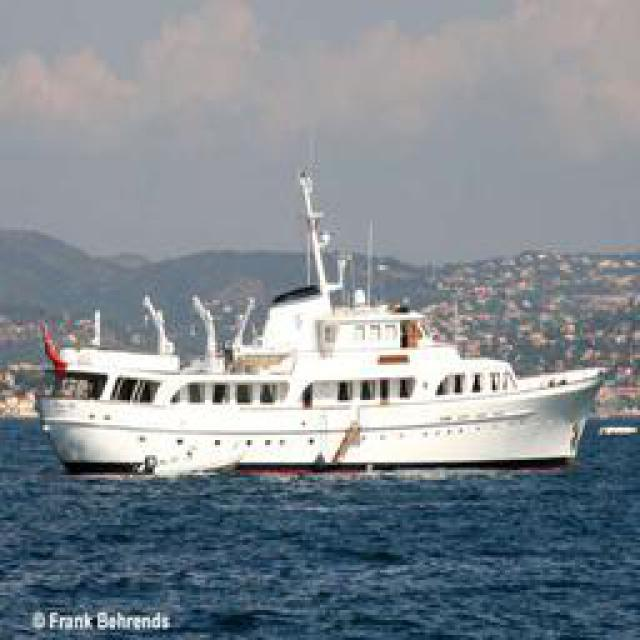Ship: (27, 286, 620, 479)
